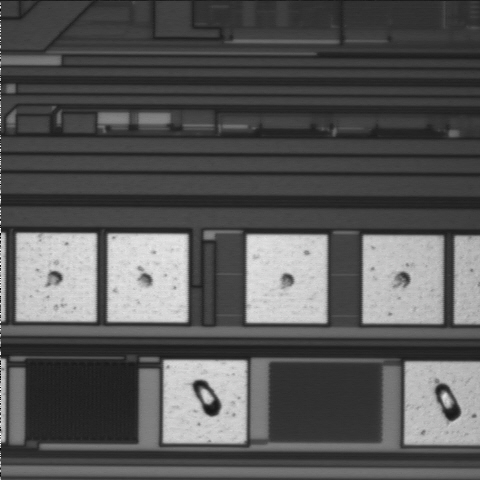pad: (108, 234, 188, 322), (247, 235, 327, 323), (17, 233, 96, 321), (363, 236, 442, 323), (164, 360, 246, 443)
